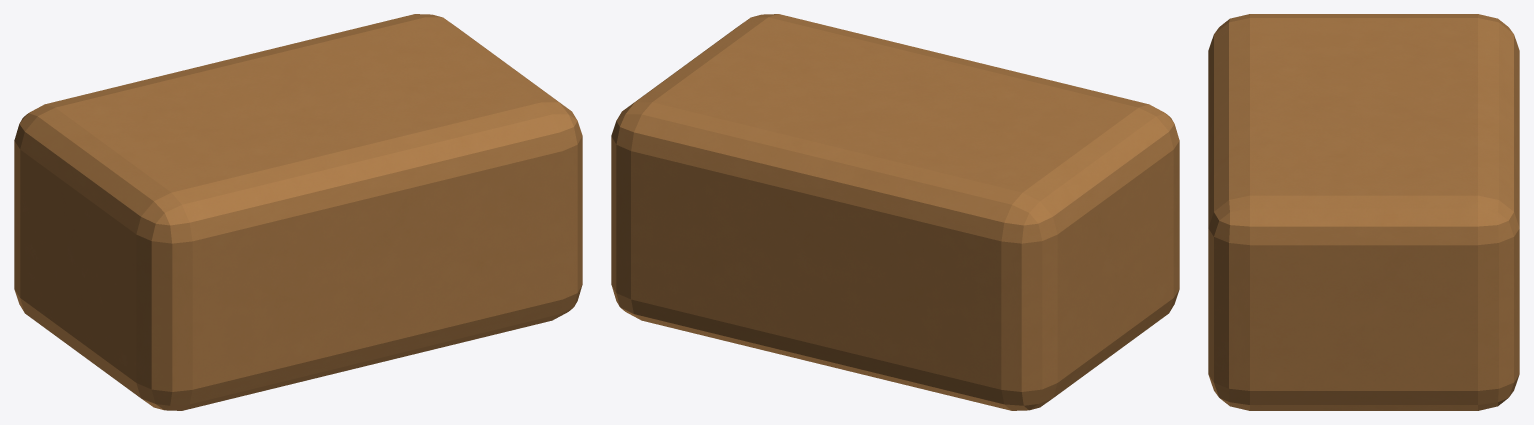
Rendered from BriquePierre.glb.
3 views of the same model, side by side, from view 1: azimuth 30°, elevation 25°; view 2: azimuth 150°, elevation 25°; view 3: azimuth 270°, elevation 25° (orthographic).
Parts seen in each view (by area): view 1: BriquePierre; view 2: BriquePierre; view 3: BriquePierre.
Part boxes in pixels (x1,y1,x2,y2): BriquePierre: (14,14,582,410); BriquePierre: (611,14,1179,410); BriquePierre: (1208,14,1519,410).
Size of the model in its own units: 8.5 by 3.96 by 5.29.
Materials: 1 (1 with a texture image).
